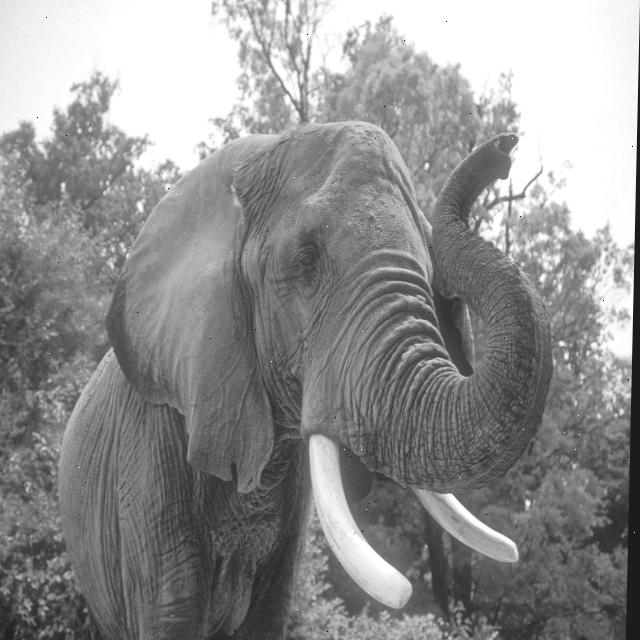Elephant: (53, 118, 559, 639)
